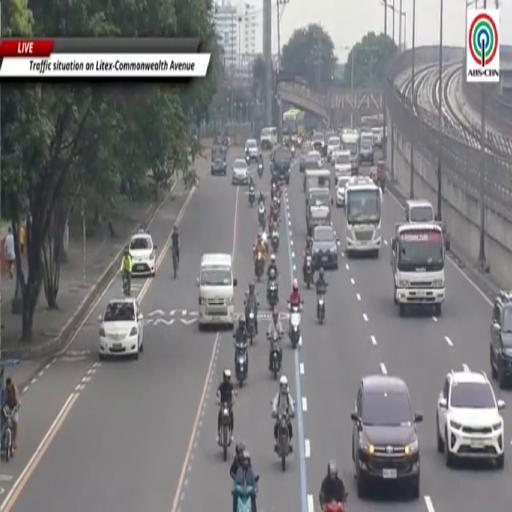bus: (283, 109, 305, 146)
car: (351, 375, 422, 499), (437, 366, 507, 468), (99, 297, 143, 359), (490, 291, 511, 388), (129, 230, 157, 277), (311, 225, 340, 270), (271, 147, 291, 184), (232, 158, 249, 184), (211, 146, 226, 175), (336, 175, 350, 206), (300, 151, 321, 171), (334, 151, 351, 173), (360, 139, 374, 165), (327, 136, 341, 162), (245, 139, 259, 162), (306, 151, 322, 170), (312, 133, 324, 155), (372, 127, 383, 148)
motorcycle: (0, 406, 16, 461), (277, 414, 290, 471), (219, 404, 231, 461), (235, 343, 248, 387), (289, 303, 301, 348), (234, 485, 254, 511), (271, 333, 281, 379), (267, 278, 278, 309), (246, 310, 255, 345), (304, 254, 313, 289), (255, 252, 264, 281), (317, 293, 325, 324), (271, 226, 279, 252), (258, 203, 266, 229), (324, 502, 344, 511), (123, 272, 130, 296), (273, 196, 280, 217), (249, 185, 255, 206), (258, 162, 263, 178), (291, 144, 295, 157), (246, 153, 250, 165)
truck: (391, 222, 445, 316), (345, 176, 382, 258), (405, 199, 450, 250), (306, 187, 333, 235), (303, 169, 332, 197), (342, 131, 359, 172)
